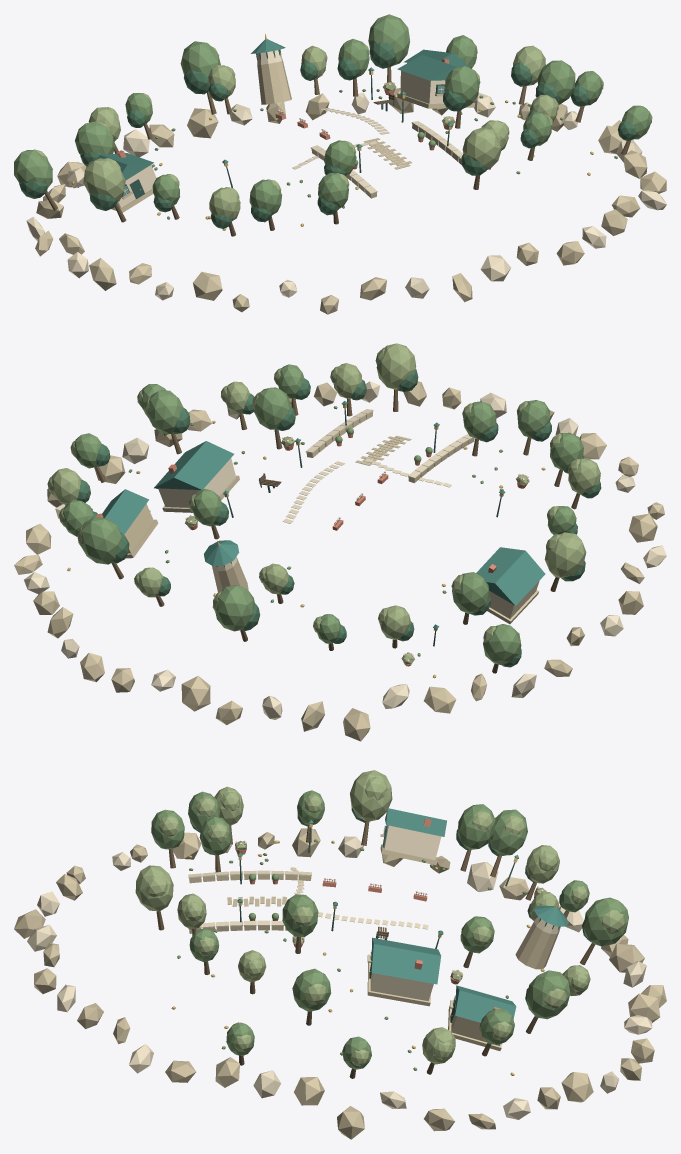
The model's file is coastal-garden.glb.
3 views of the same model, one above another, from view 1: azimuth 30°, elevation 25°; view 2: azimuth 150°, elevation 25°; view 3: azimuth 270°, elevation 25° (orthographic). The views are drawn at different scales.
Visible parts, largest first — view 1: coastal-garden; view 2: coastal-garden; view 3: coastal-garden.
Boxes of the visible parts, box(x1,y1,x2,y2) form: coastal-garden: box(14, 14, 666, 314); coastal-garden: box(14, 343, 666, 741); coastal-garden: box(14, 770, 666, 1139).
Bounding box in the file's own units: 58.68 × 17.75 × 57.18.
